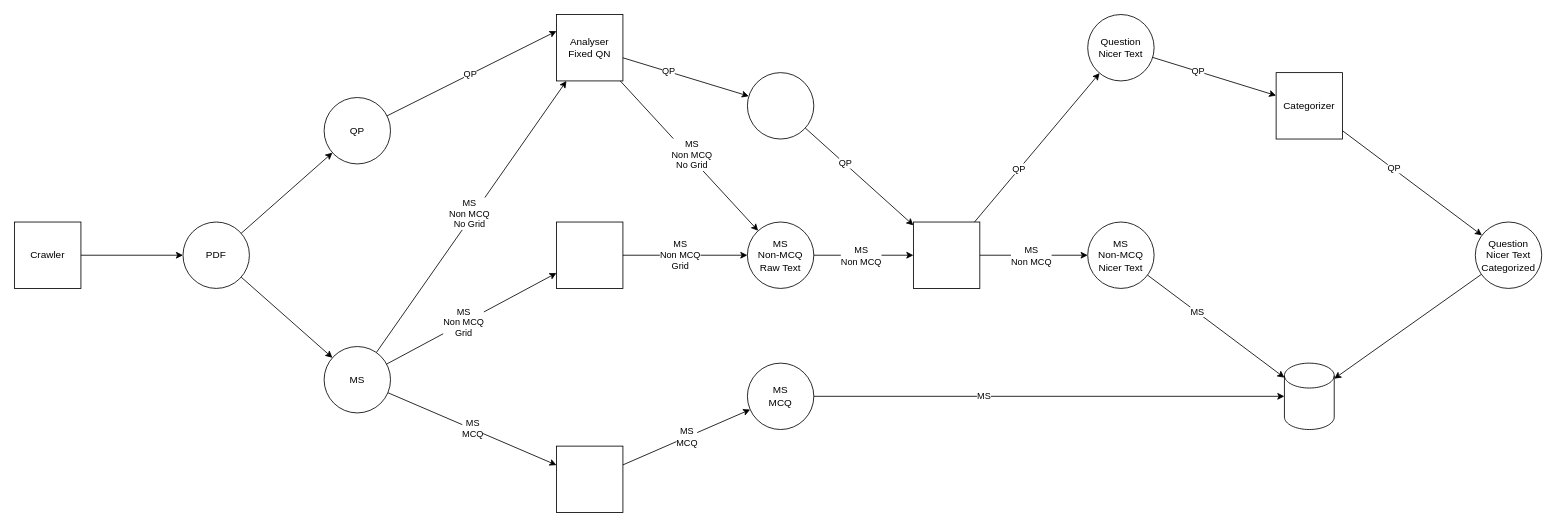
Image size: 1556x527. Some labels were removed from this diagram. The centre of each missing label's shape, as x and y in pixels:
"Analyser MS Grid" goes at [589,254].
"Analyser MS MCQ" goes at [589,479].
"Postprocessor" goes at [946,254].
"Question Raw Text" goes at [780,105].
"Storage" goes at [1309,396].
